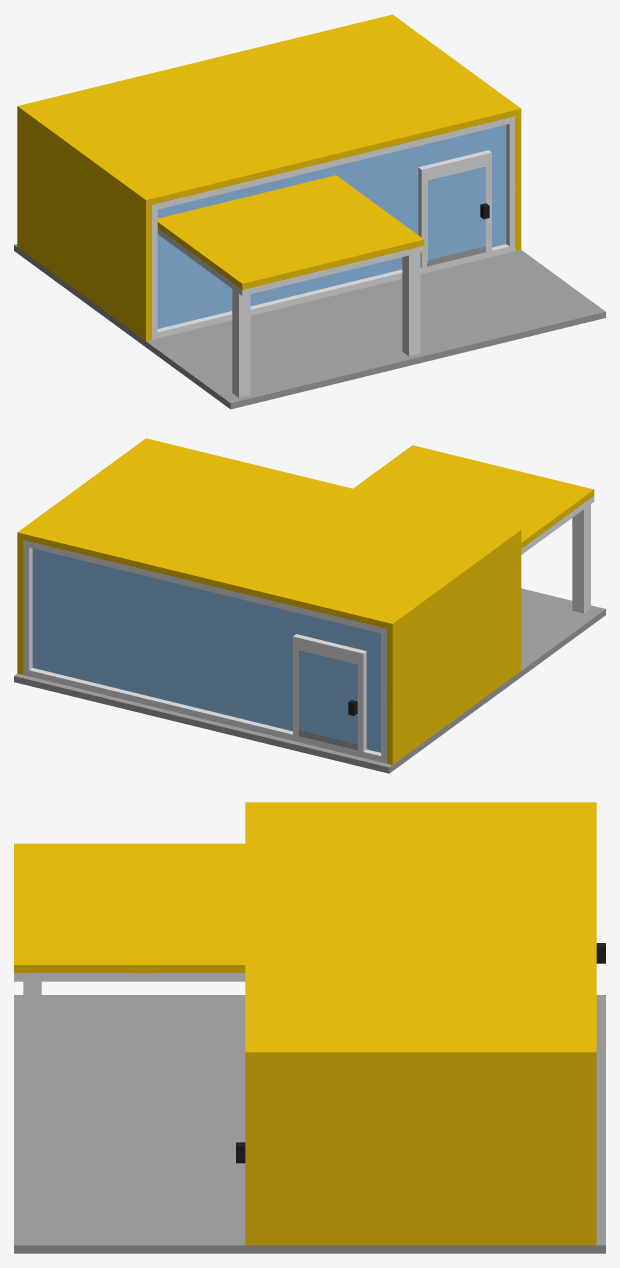
The model's file is obj_house2c.dae.
3 views of the same model, one above another, from view 1: azimuth 30°, elevation 25°; view 2: azimuth 150°, elevation 25°; view 3: azimuth 270°, elevation 25° (orthographic). The views are drawn at different scales.
Parts seen in each view (by area): view 1: obj_house2c; view 2: obj_house2c; view 3: obj_house2c.
Part boxes in pixels (bbox=[...]): obj_house2c: bbox=[14, 14, 605, 409]; obj_house2c: bbox=[14, 438, 605, 773]; obj_house2c: bbox=[14, 802, 605, 1253].
Bounding box in the file's own units: 6.4 × 6.4 × 2.4.
Materials: 1 (1 with a texture image).
